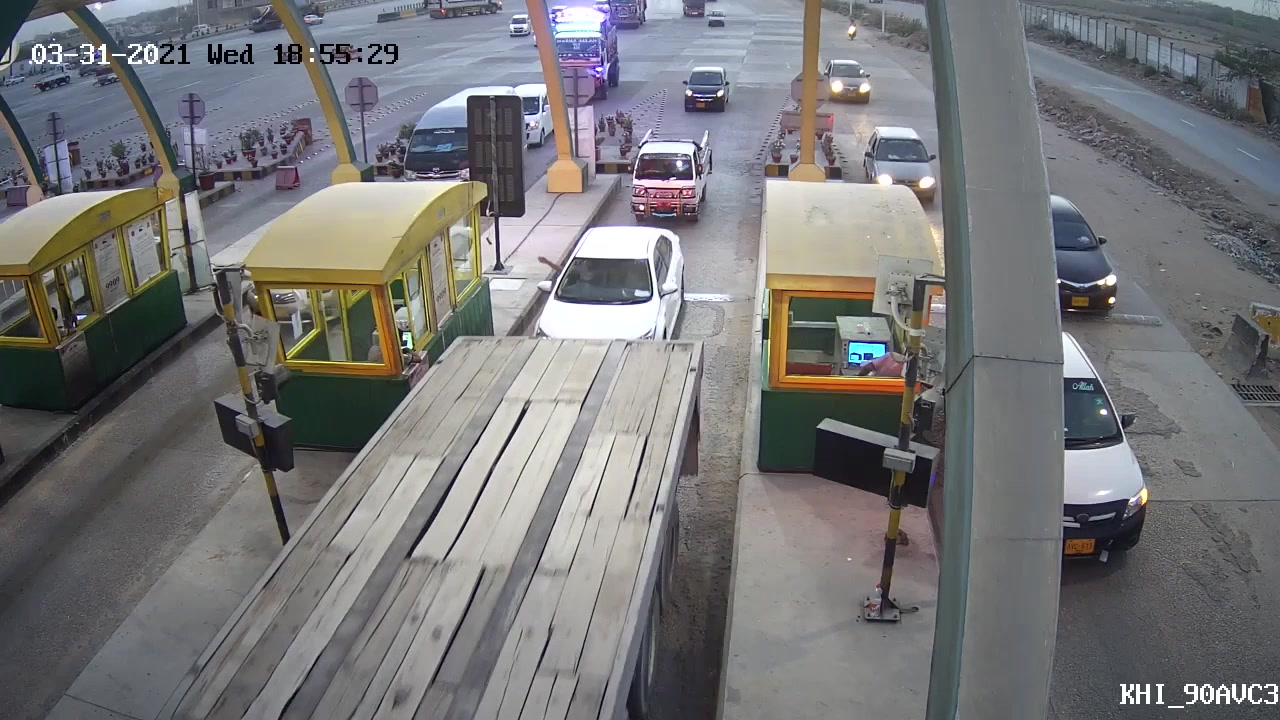F2: (627, 124, 719, 222)
